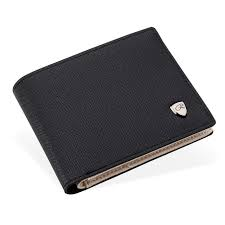monedero: (13, 26, 216, 194)
